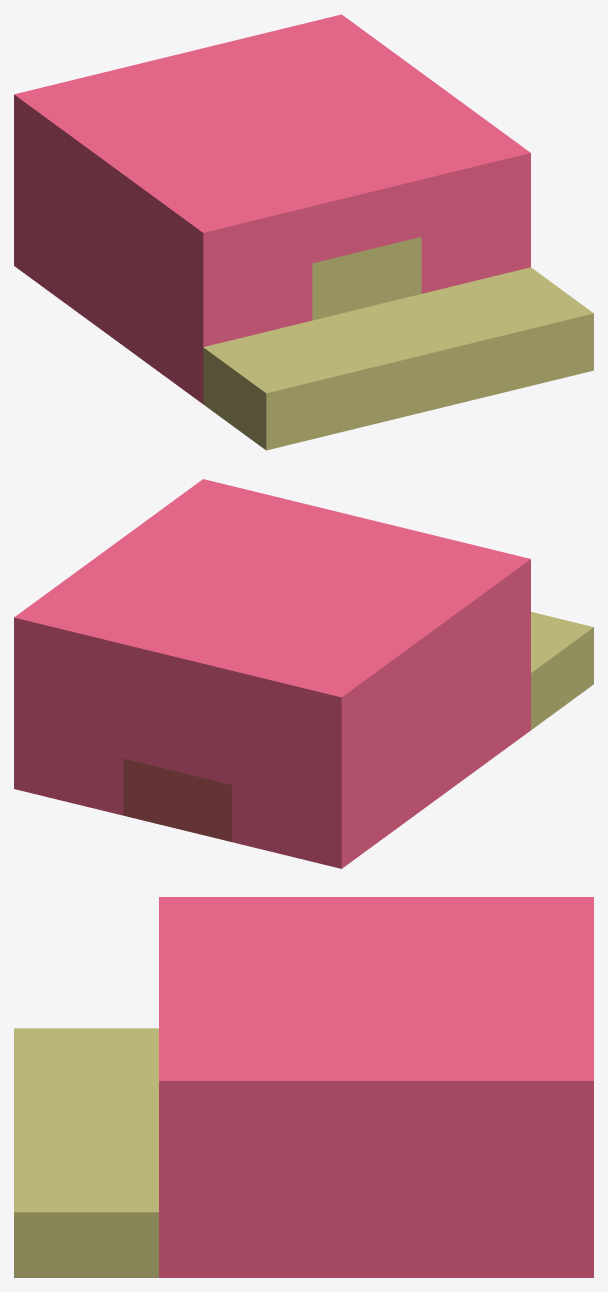
File: clown2.obj
3 renders of one model, top to bottom at view 1: azimuth 30°, elevation 25°; view 2: azimuth 150°, elevation 25°; view 3: azimuth 270°, elevation 25°, orthographic. The views are drawn at different scales.
Bounding box in the file's own units: 0.6 × 0.3 × 0.8.
1 material, 1 textured.
